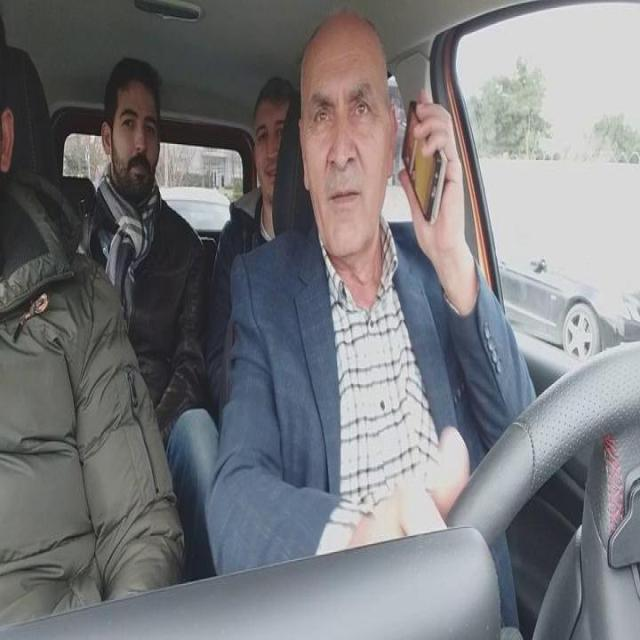phone: (400, 97, 450, 225)
